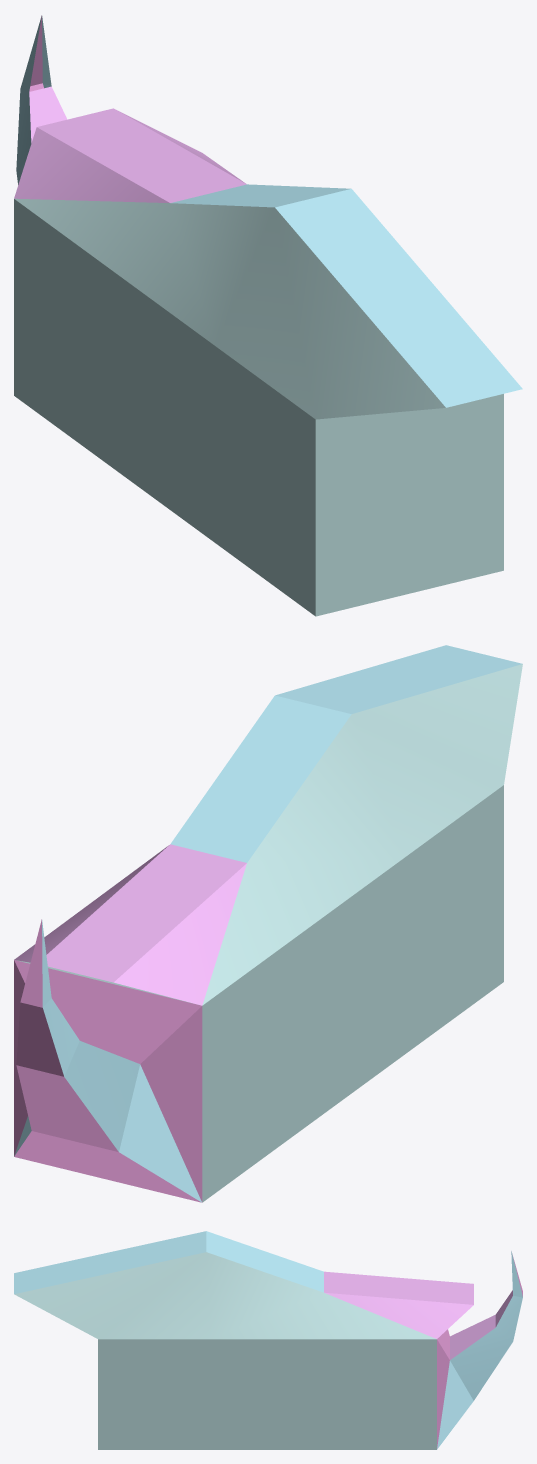
The picture shows the model from 3 angles, top to bottom: view 1: azimuth 30°, elevation 25°; view 2: azimuth 150°, elevation 25°; view 3: azimuth 270°, elevation 25°; orthographic projection. The views are drawn at different scales.
Parts seen in each view (by area): view 1: Object63; view 2: Object63; view 3: Object63.
Boxes of the visible parts, x1,y1,x2,y2 form: Object63: [14, 15, 522, 616]; Object63: [14, 645, 522, 1202]; Object63: [14, 1231, 522, 1449].
Bounding box in the file's own units: 10000 × 16486 × 41668.
